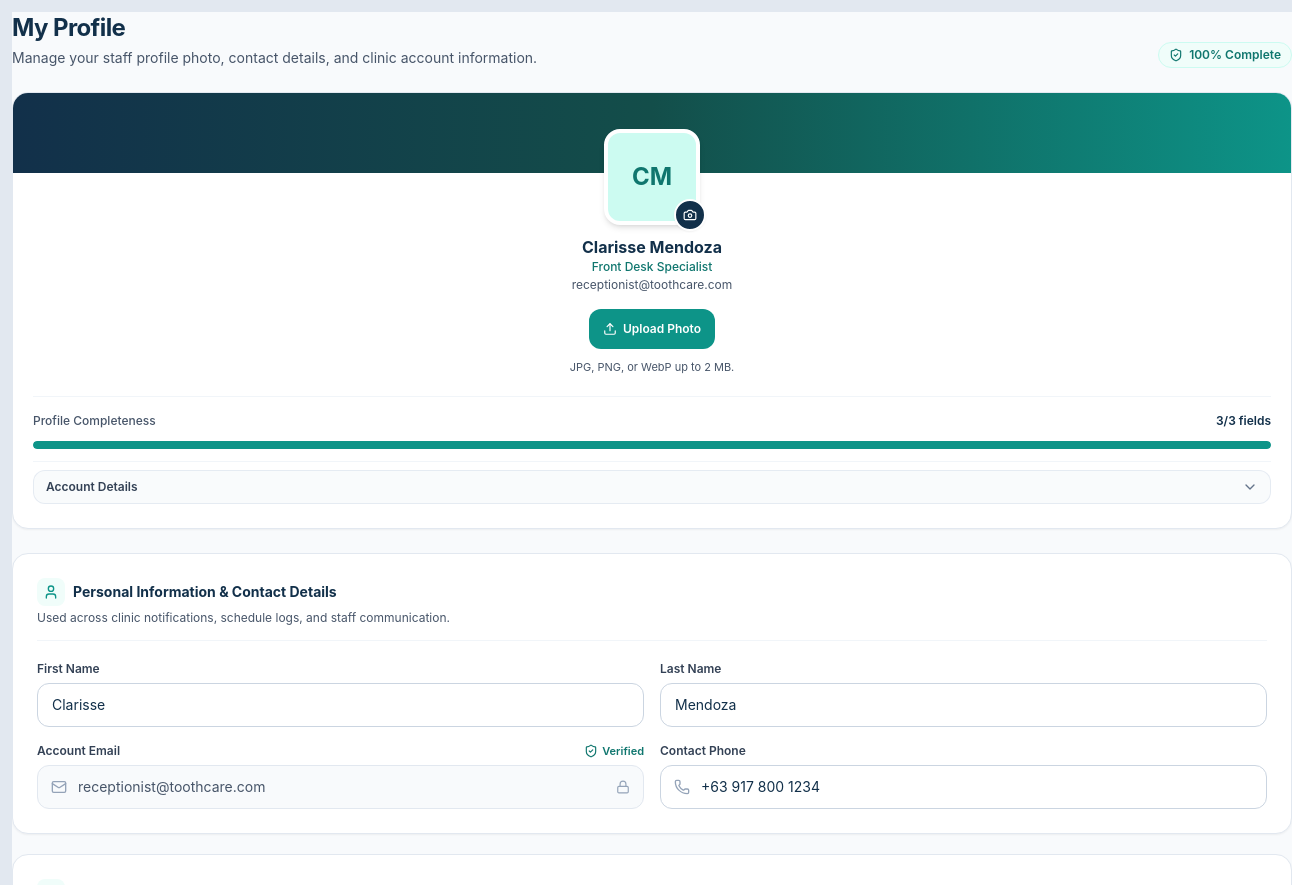
Test: StaffProfilePage Component › keeps Account Details minimized by default and toggles open/closed as a dropdown
Check: the field showing "Clarisse" is shown, box 37,682 -> 644,726
Check: the text "System Access" is not shown
Click the button "Account Details".
click(92, 486)  # box 33,470 -> 1271,504
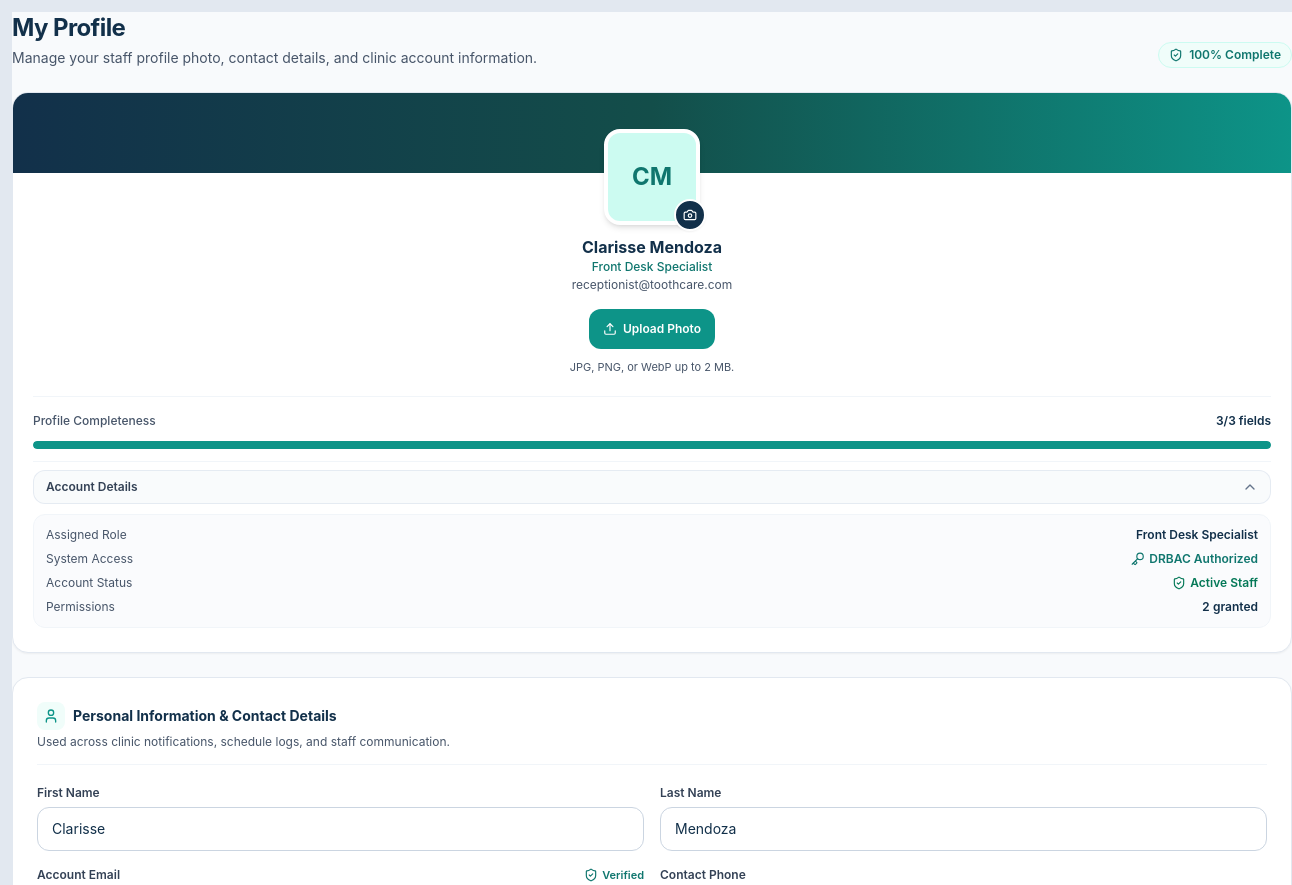
Check: the button "Account Details" is expanded
Check: the text "System Access" is shown, box 46,550 -> 133,566
Check: the text "2 granted" is shown, box 1202,598 -> 1258,614
Click the button "Account Details".
click(92, 486)  # box 33,470 -> 1271,504
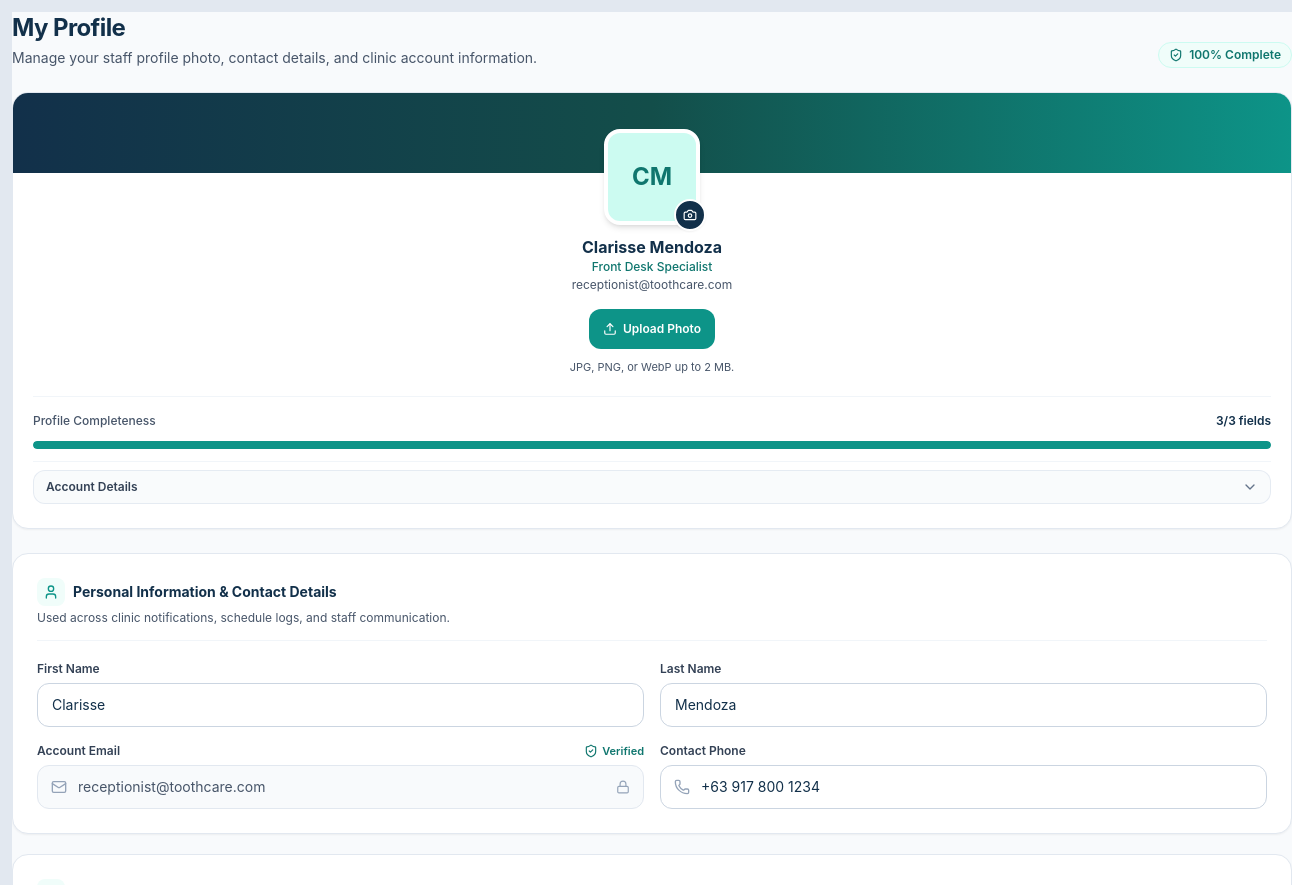
Check: the button "Account Details" is collapsed, box 33,470 -> 1271,504
Check: the text "System Access" is gone
